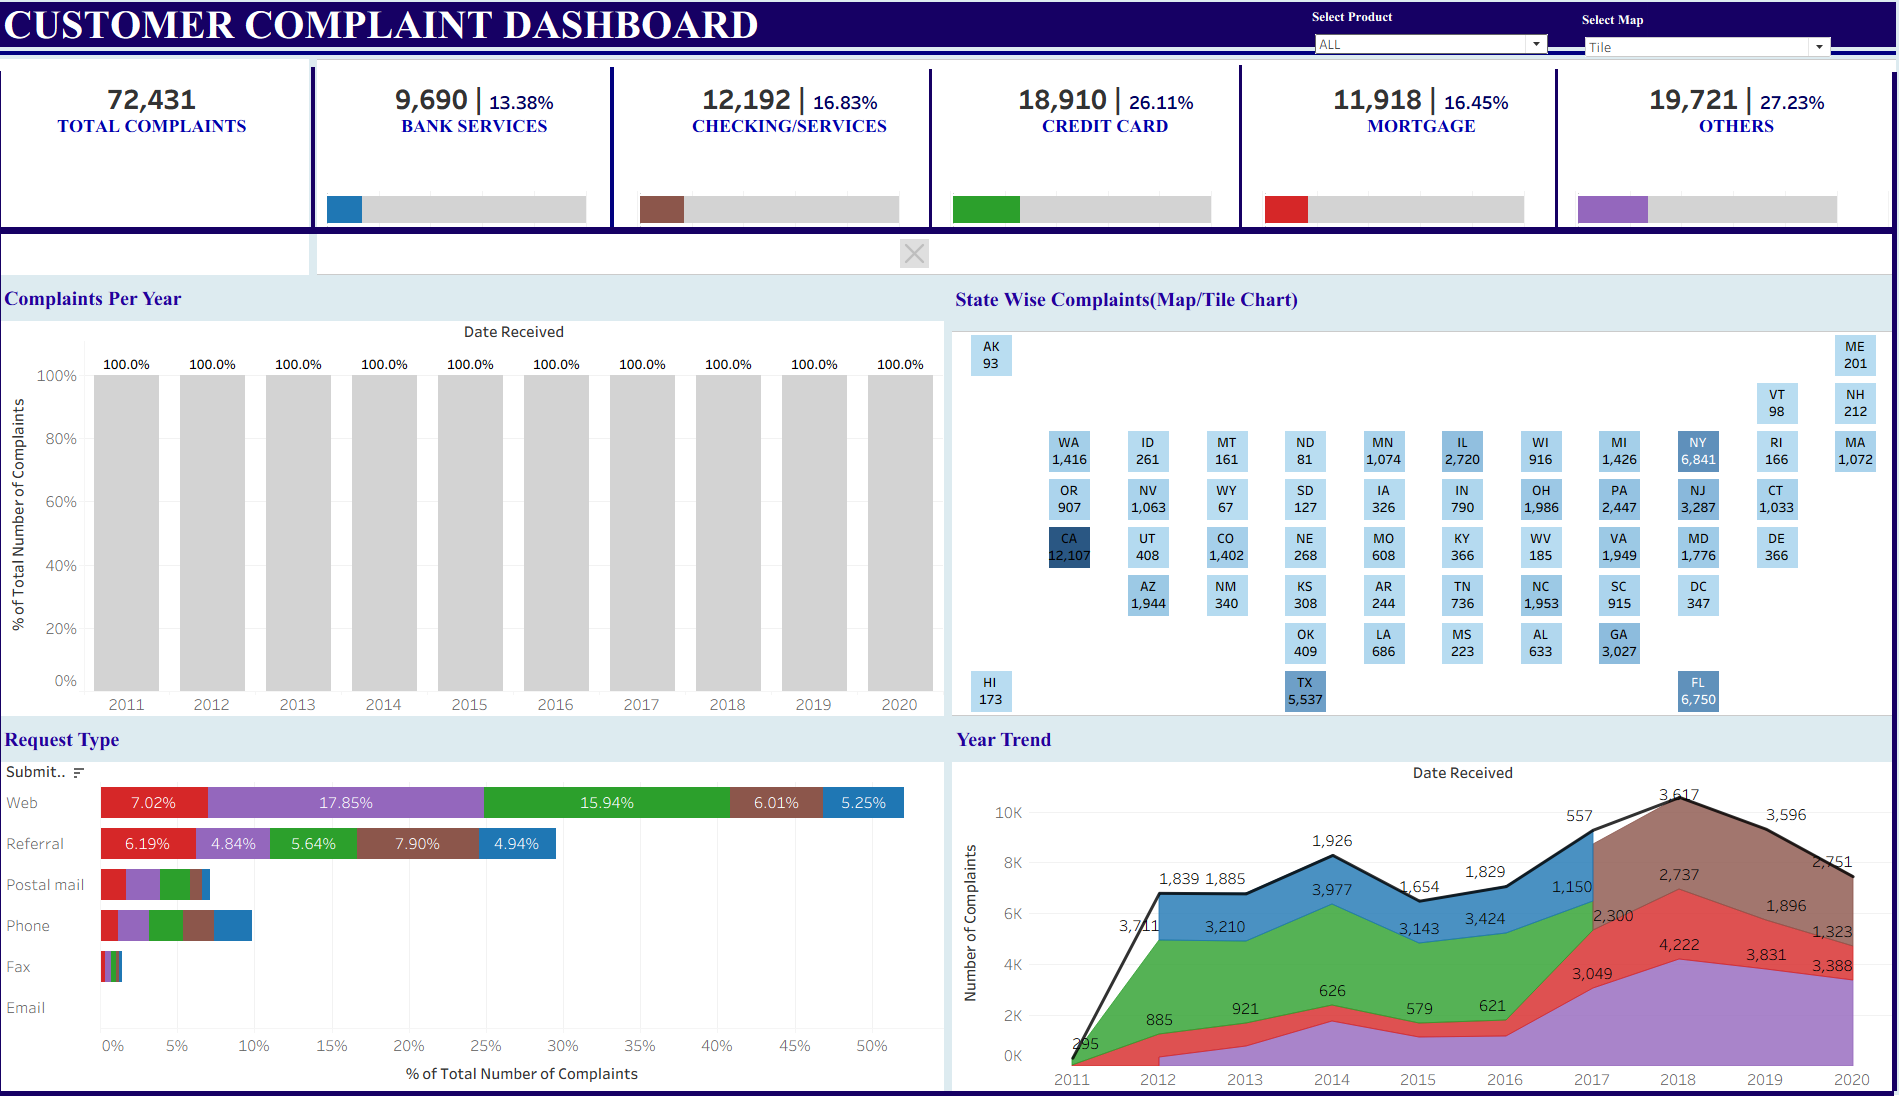

What the dashboard file says about the page in this screenshot:
{"tool":"tableau","page":{"name":"CUSTOMER COMPLAINT DASHBOARD","canvas":[1000,1000],"units":"permille","ordinal":0},"visuals":[{"type":"title","box":[4.8,8.7,990.3,57.6]},{"type":"parameter","param":"[Parameters].[Parameter 1]","box":[689.7,17.4,124.4,59.7]},{"type":"parameter","param":"[Parameters].[Parameter 2]","box":[830.4,19.5,131.3,63]},{"type":"blank","box":[4.8,66.2,990.3,4.3]},{"type":"blank","box":[651.4,67.3,1.9,150.9]},{"type":"blank","box":[168.3,69.5,1.9,147.7]},{"type":"blank","box":[324.1,69.5,1.9,147.7]},{"type":"worksheet","title":"Total KPI","mark":"Automatic","box":[4.8,70.6,165.1,198]},{"type":"worksheet","title":"KPI","mark":"Automatic","box":[169.9,70.6,825.2,198]},{"type":"blank","box":[489.9,70.6,1.9,147.7]},{"type":"blank","box":[816,70.6,1.9,146.6]},{"type":"blank","box":[4.4,72.8,2.5,919.6]},{"type":"blank","box":[991.9,73.8,2.5,915.3]},{"type":"worksheet","title":"% of Complaints","mark":"Bar","cols":["Calculation_1644086703583234","Number of Complaints"],"box":[176.5,180.2,814.7,32.6]},{"type":"blank","box":[6.3,212.8,987.5,6.5]},{"type":"dashboard-object","box":[475.2,223.7,15.1,26.1]},{"type":"worksheet","title":"Complaints Per Year","mark":"Bar","cols":["Date Received"],"box":[4.8,268.2,495.5,390.9]},{"type":"text","box":[500.3,268.2,494.9,45.6]},{"type":"worksheet","title":"Map Others","mark":"Multipolygon","box":[500.3,313.8,494.9,1.1]},{"type":"worksheet","title":"Map All","mark":"Multipolygon","box":[500.3,314.9,494.9,1.1]},{"type":"worksheet","title":"Map Bank Services","mark":"Multipolygon","box":[500.3,316,494.9,1.1]},{"type":"worksheet","title":"Map Checking","mark":"Multipolygon","box":[500.3,317.1,494.9,1.1]},{"type":"worksheet","title":"Map Credit Card","mark":"Multipolygon","box":[500.3,318.2,494.9,1.1]},{"type":"worksheet","title":"Map Mortgage","mark":"Multipolygon","box":[500.3,319.2,494.9,1.1]},{"type":"worksheet","title":"Tile All","mark":"Square","rows":["Row"],"cols":["Space"],"box":[500.3,320.3,494.9,338.7]},{"type":"worksheet","title":"Request Type","mark":"Automatic","rows":["Submitted via"],"box":[4.8,659.1,495.5,332.2]},{"type":"worksheet","title":"Year Trend","mark":"Area","rows":["Number of Complaints","Number of Complaints"],"cols":["Date Received"],"box":[500.3,659.1,494.9,332.2]},{"type":"blank","box":[5,989.1,987.5,4.3]}]}

Visuals, with their boxes on the dashboard's canvas, which has no fixed pixel size, in thousandths of its width and height (x1, y1, x2, y2). These are canvas units, not pixel positions in the 1899x1096 screenshot, which may show the page scaled, cropped or inside an application window:
title: [x1=5, y1=9, x2=995, y2=66]
parameter: [x1=690, y1=17, x2=814, y2=77]
parameter: [x1=830, y1=20, x2=962, y2=82]
blank: [x1=5, y1=66, x2=995, y2=70]
blank: [x1=651, y1=67, x2=653, y2=218]
blank: [x1=168, y1=70, x2=170, y2=217]
blank: [x1=324, y1=70, x2=326, y2=217]
"Total KPI" worksheet: [x1=5, y1=71, x2=170, y2=269]
"KPI" worksheet: [x1=170, y1=71, x2=995, y2=269]
blank: [x1=490, y1=71, x2=492, y2=218]
blank: [x1=816, y1=71, x2=818, y2=217]
blank: [x1=4, y1=73, x2=7, y2=992]
blank: [x1=992, y1=74, x2=994, y2=989]
"% of Complaints" worksheet (Bar marks): [x1=176, y1=180, x2=991, y2=213]
blank: [x1=6, y1=213, x2=994, y2=219]
dashboard-object: [x1=475, y1=224, x2=490, y2=250]
"Complaints Per Year" worksheet (Bar marks): [x1=5, y1=268, x2=500, y2=659]
text: [x1=500, y1=268, x2=995, y2=314]
"Map Others" worksheet (Multipolygon marks): [x1=500, y1=314, x2=995, y2=315]
"Map All" worksheet (Multipolygon marks): [x1=500, y1=315, x2=995, y2=316]
"Map Bank Services" worksheet (Multipolygon marks): [x1=500, y1=316, x2=995, y2=317]
"Map Checking" worksheet (Multipolygon marks): [x1=500, y1=317, x2=995, y2=318]
"Map Credit Card" worksheet (Multipolygon marks): [x1=500, y1=318, x2=995, y2=319]
"Map Mortgage" worksheet (Multipolygon marks): [x1=500, y1=319, x2=995, y2=320]
"Tile All" worksheet (Square marks): [x1=500, y1=320, x2=995, y2=659]
"Request Type" worksheet: [x1=5, y1=659, x2=500, y2=991]
"Year Trend" worksheet (Area marks): [x1=500, y1=659, x2=995, y2=991]
blank: [x1=5, y1=989, x2=992, y2=993]
